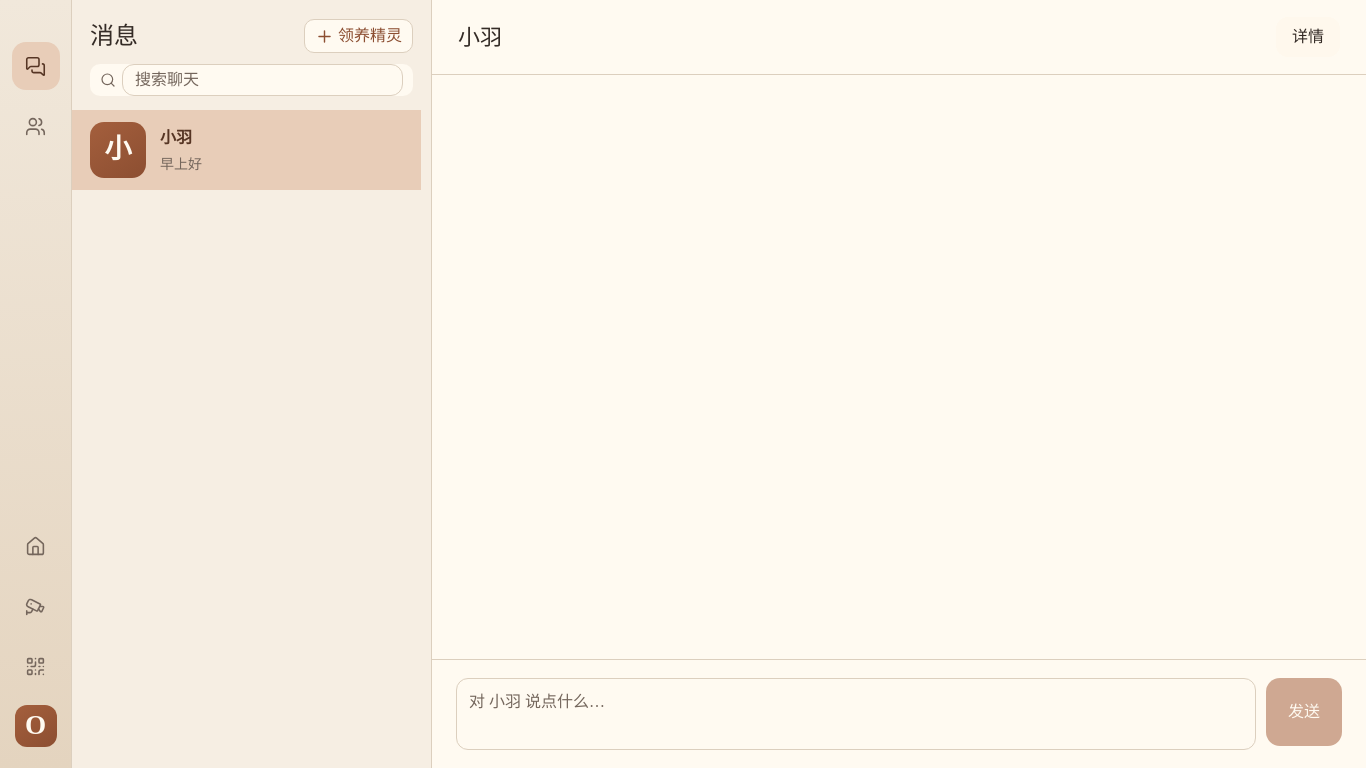
Test: ChatPage list pane headings › announces no results and recovers when the controlled search is cleared
Click the button named "精灵列表".
click(36, 126)  # box 12,102 -> 60,150
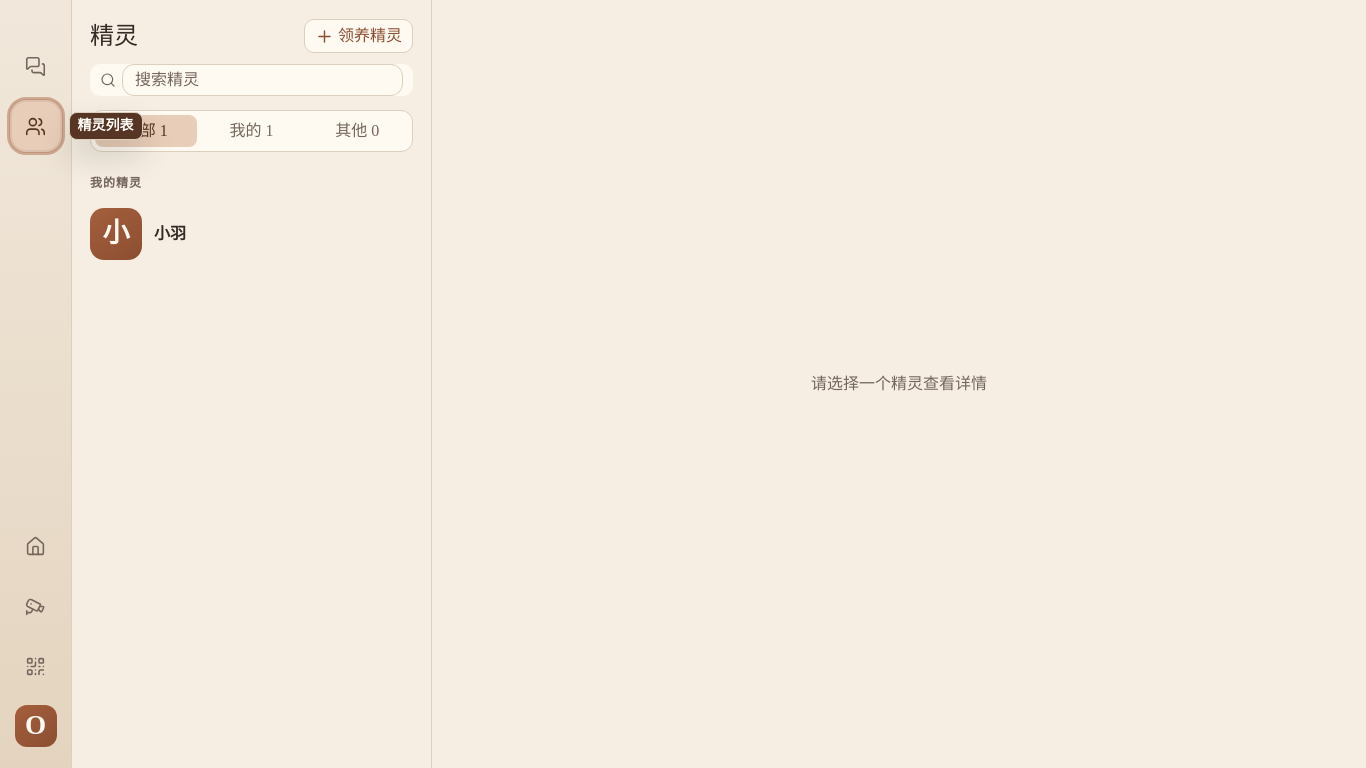
Type "999999999999999999" into the field with placeholder "搜索精灵".
click(262, 80); type("999999999999999999")  # box 122,64 -> 403,96
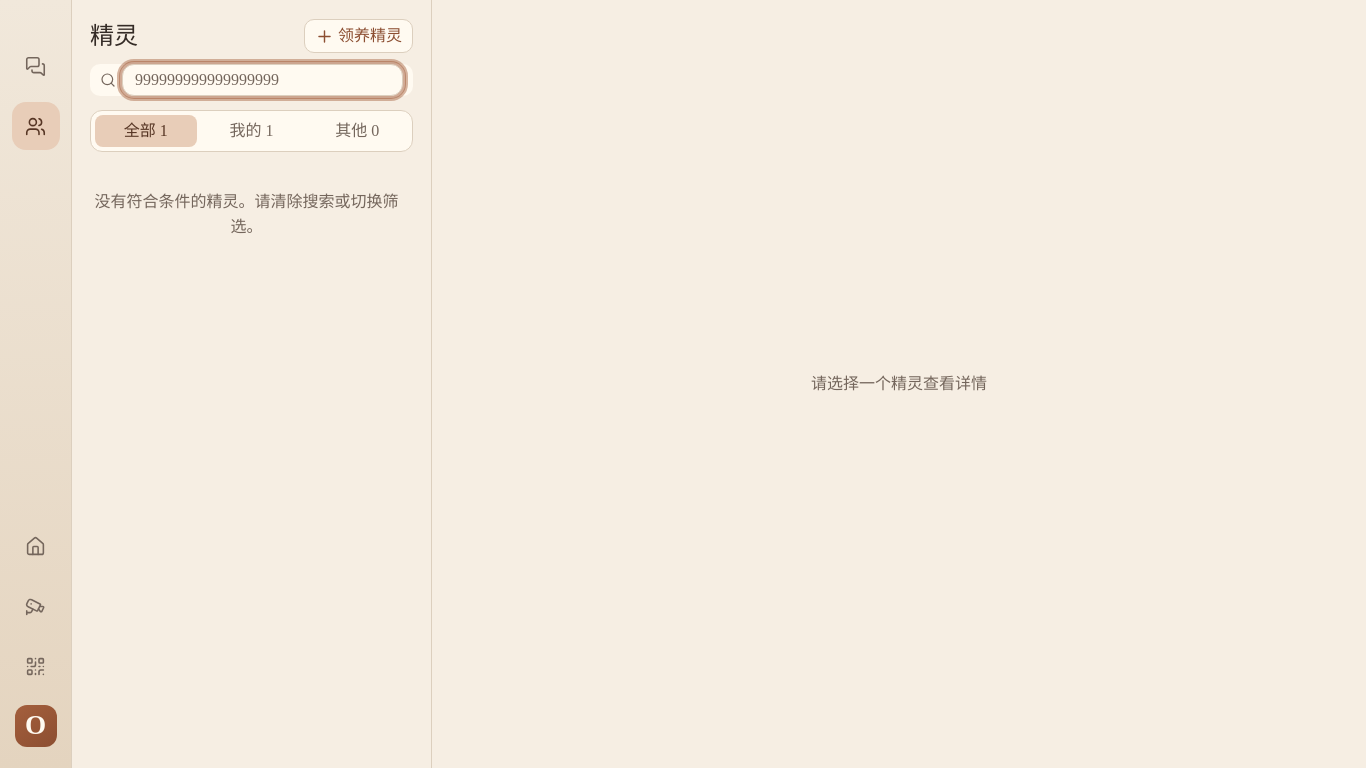
Now the message "没有符合条件的精灵。请清除搜索或切换筛选。" is shown, box 90,190 -> 403,240
Clear the field with placeholder "搜索精灵" at (262, 80), box 122,64 -> 403,96
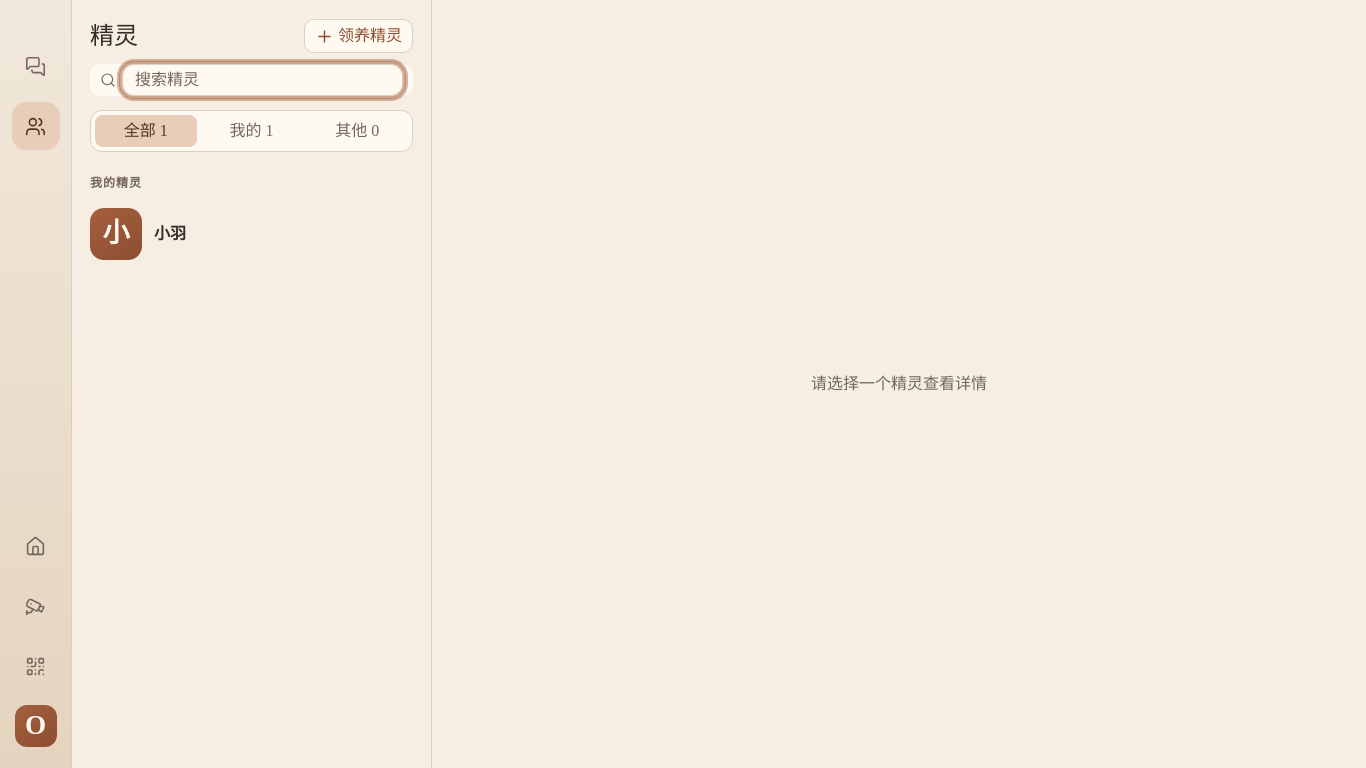
Now the message "没有符合条件的精灵。请清除搜索或切换筛选。" is gone
Now the text "小羽" is shown, box 154,222 -> 186,246
